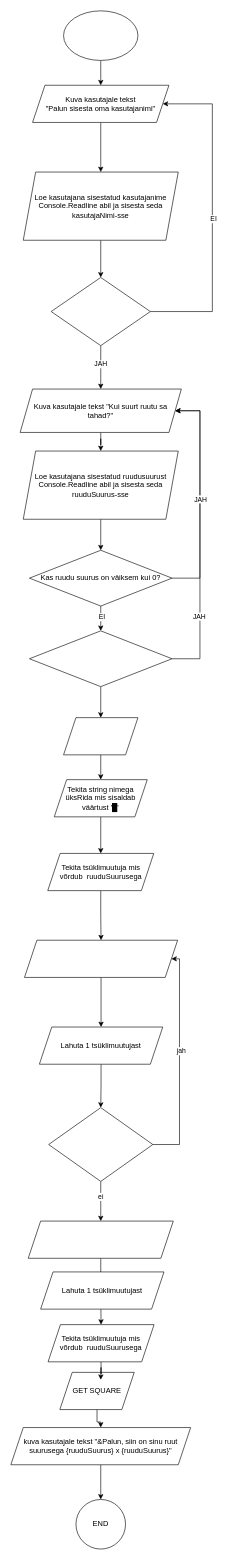
This 228x1560 diagram has some shape labels left out. Here are the shapes that lost their labels. From the top down, the centre of each, then its label:
the point at 100,35: Algus
the point at 100,311: Kas kasutaja sisestas kasutajanimeks User1?
the point at 100,658: Kas ruudu suurus on suurem kui 20?
the point at 100,736: Tekita muutuja nimega reaKujund milles on '█'
the point at 101,958: Muutujale üksRida liida otsa reaKujund
the point at 100,1144: KAS TSÜKLIMUUTUJA ON midagi muud KUI 0?
the point at 100,1239: KIRJUTA ÜKSRIDA
